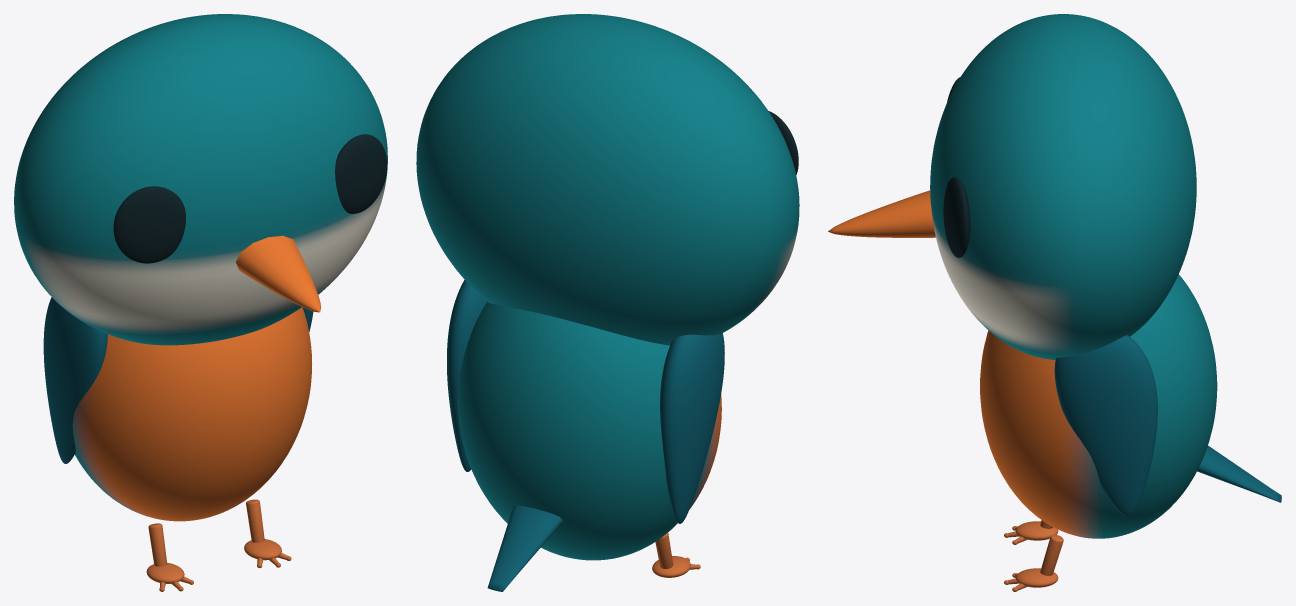
File: alcedo-mascot.glb
3 renders of one model, left to right at view 1: azimuth 30°, elevation 25°; view 2: azimuth 150°, elevation 25°; view 3: azimuth 270°, elevation 25°, orthographic. The views are drawn at different scales.
Parts seen in each view (by area): view 1: Wide oval head, Compact smooth body, Left smooth folded wing, Left oval eye, Small central orange beak, Right oval eye, Short tucked leg.001, Short tucked leg, Small foot.001, Small foot; view 2: Wide oval head, Compact smooth body, Left smooth folded wing, Small tapered tail, Right smooth folded wing, Small foot, Left oval eye; view 3: Wide oval head, Compact smooth body, Right smooth folded wing, Small central orange beak, Right oval eye, Small tapered tail, Small foot.001.
Boxes of the visible parts, x1,y1,x2,y2 form: Wide oval head: (14,14,387,345); Compact smooth body: (72,307,312,521); Left smooth folded wing: (43,297,107,463); Left oval eye: (113,186,185,263); Small central orange beak: (236,235,321,312); Right oval eye: (335,134,387,213); Short tucked leg.001: (246,499,264,542); Short tucked leg: (148,523,167,566); Small foot.001: (244,539,281,560); Small foot: (146,562,184,583); Wide oval head: (416,14,799,345); Compact smooth body: (457,301,721,560); Left smooth folded wing: (660,333,724,523); Small tapered tail: (487,505,562,591); Right smooth folded wing: (447,279,487,471); Small foot: (652,556,690,577); Left oval eye: (768,111,798,174); Wide oval head: (930,14,1196,359); Compact smooth body: (980,274,1217,538); Right smooth folded wing: (1054,335,1157,515); Small central orange beak: (828,190,935,237); Right oval eye: (943,177,970,257); Small tapered tail: (1197,445,1281,502); Small foot.001: (1015,568,1058,587).
Size of the model in its own units: 1.36 by 1.98 by 1.55.
